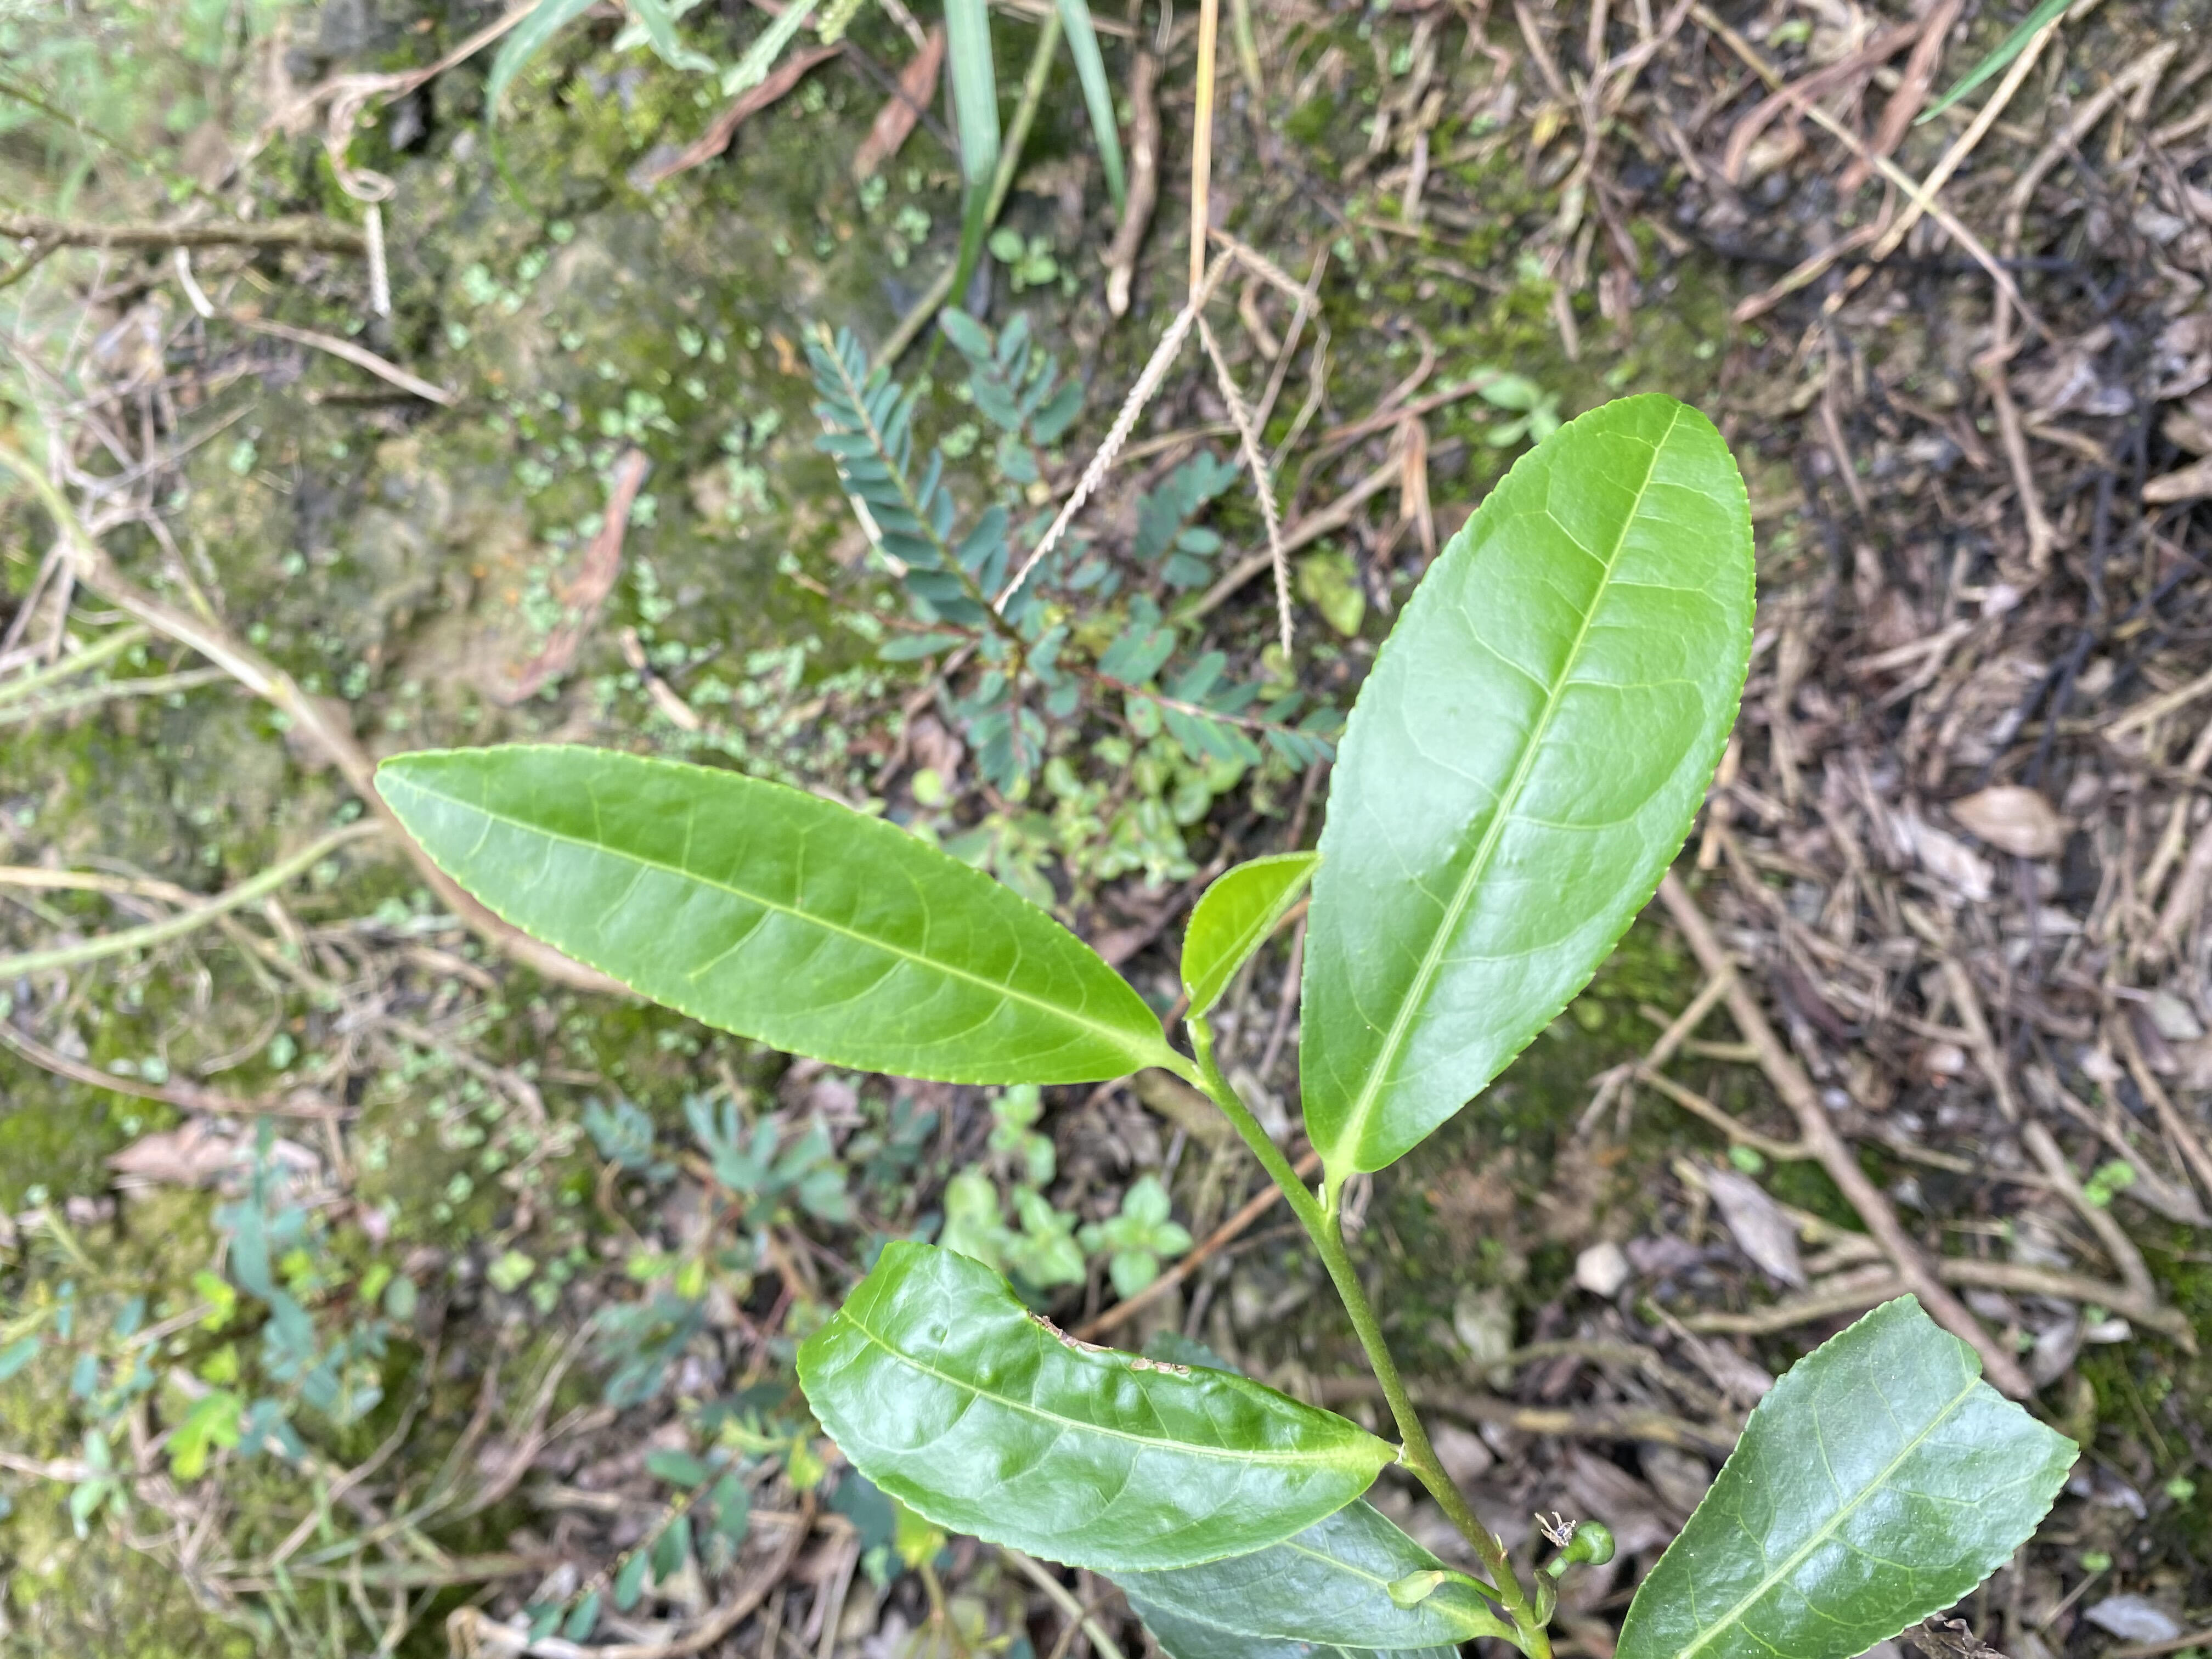chihuo_high: (1611, 1290, 2087, 1657)
healthy: (1296, 390, 1757, 1180), (373, 739, 1167, 1086)
tanju_low: (792, 1237, 1385, 1577)
